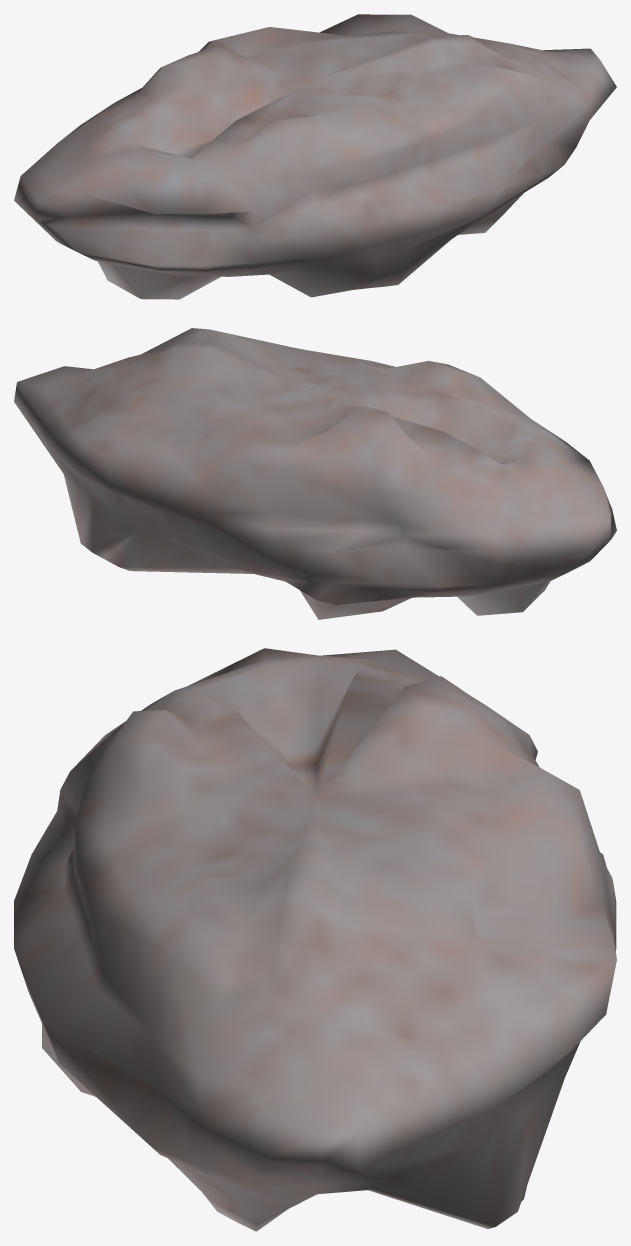
The model's file is Meteorito_02.fbx.
The picture shows the model from 3 angles, top to bottom: view 1: azimuth 30°, elevation 25°; view 2: azimuth 150°, elevation 25°; view 3: azimuth 270°, elevation 25°; orthographic projection. The views are drawn at different scales.
Visible parts, largest first — view 1: Meteorito_02; view 2: Meteorito_02; view 3: Meteorito_02.
Part boxes in pixels (<box>): Meteorito_02: <box>14,14,616,299</box>; Meteorito_02: <box>14,328,616,619</box>; Meteorito_02: <box>14,648,616,1231</box>.
Size of the model in its own units: 4627 by 1575 by 2419.
1 material, 1 textured.
